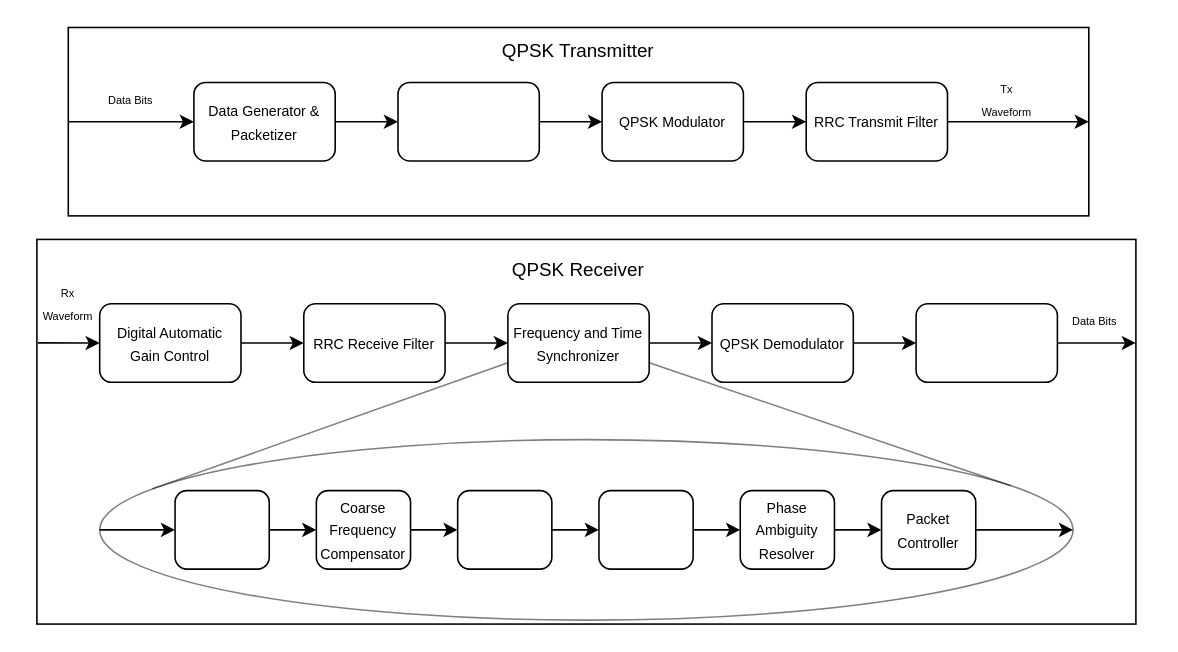
Image size: 1178x652. Some labels were removed from this diagram. The box of each missing label's shape, as (x1, y1, x2, y2) in pixels:
Carrier Synchronizer: (456, 489, 552, 569)
HDL Data Descrambler: (915, 302, 1057, 382)
HDL Data Scrambler: (396, 81, 539, 161)
Preamble Detector: (597, 489, 693, 569)
Symbol Synchronizer: (173, 489, 269, 569)
